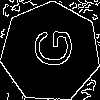G: (25, 27, 73, 69)
